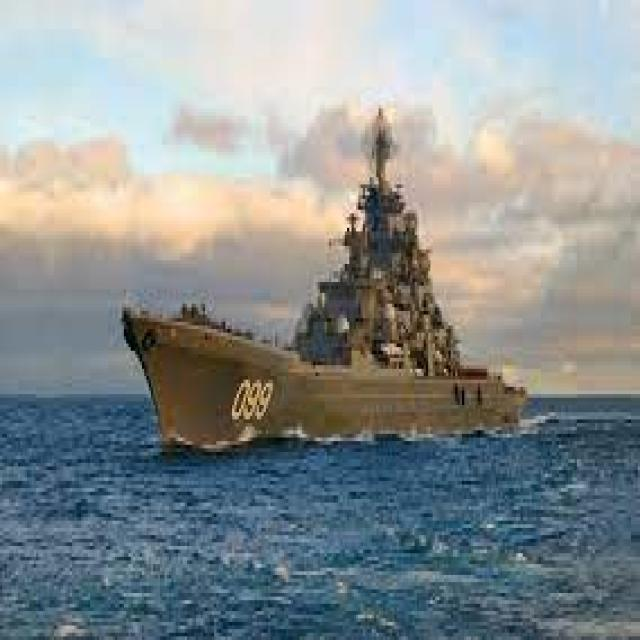navalvessels: (108, 92, 523, 446)
